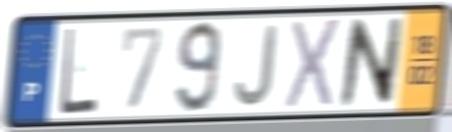7: (119, 24, 165, 114)
9: (173, 17, 224, 117)
J: (231, 21, 281, 110)
L: (58, 24, 100, 118)
N: (336, 15, 406, 109)
X: (282, 15, 344, 112)
